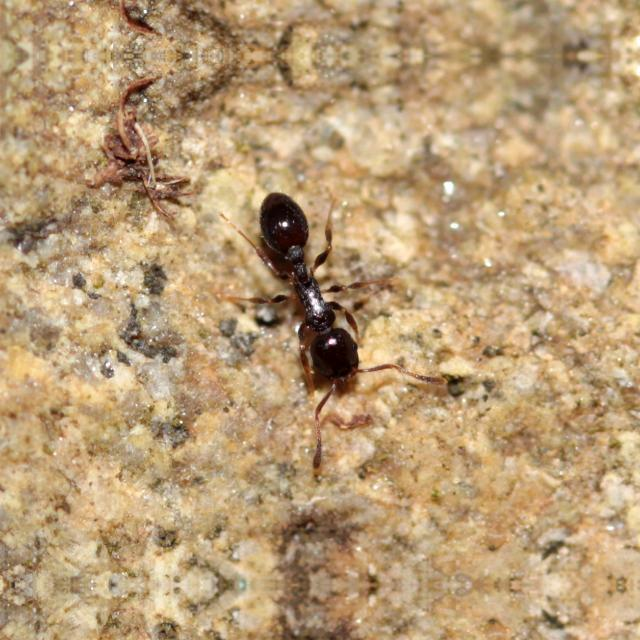Temnothorax: (238, 163, 417, 421)
